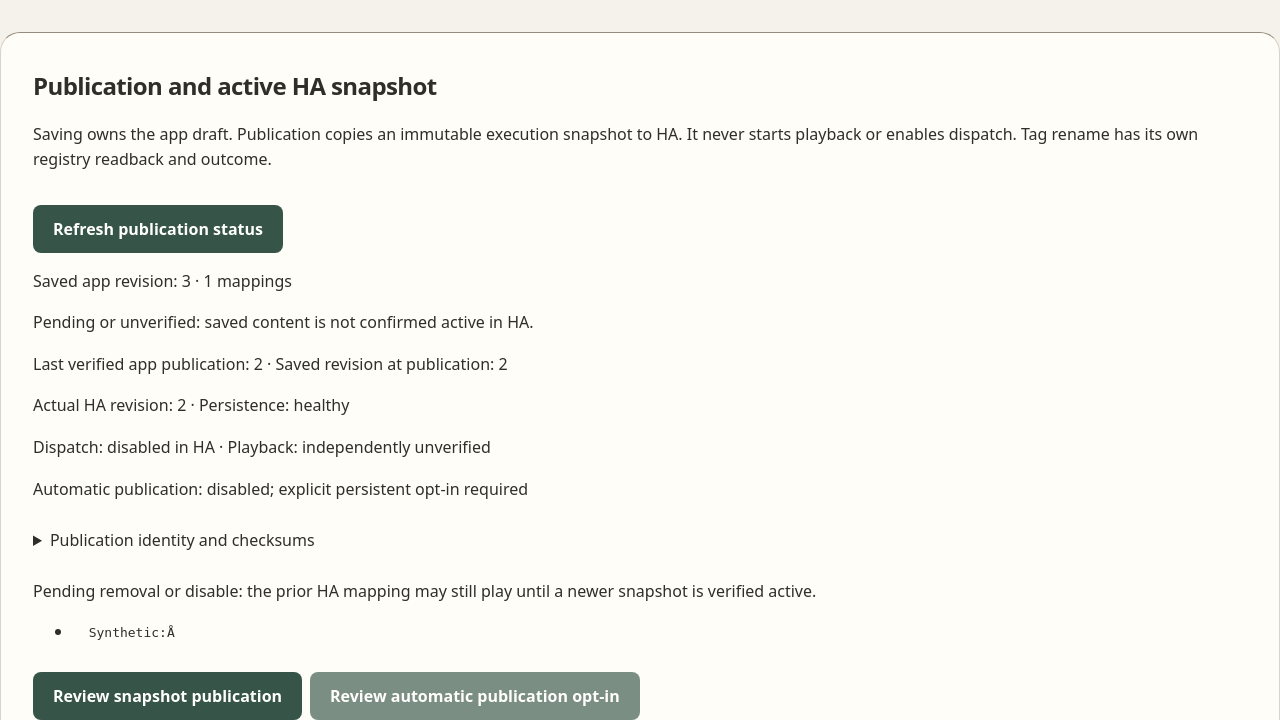
focuses a review preparation error and the exact heading after a new review succeeds
Click the button "Review snapshot publication": (168, 696) [33,672,302,719]
(page scrolled)
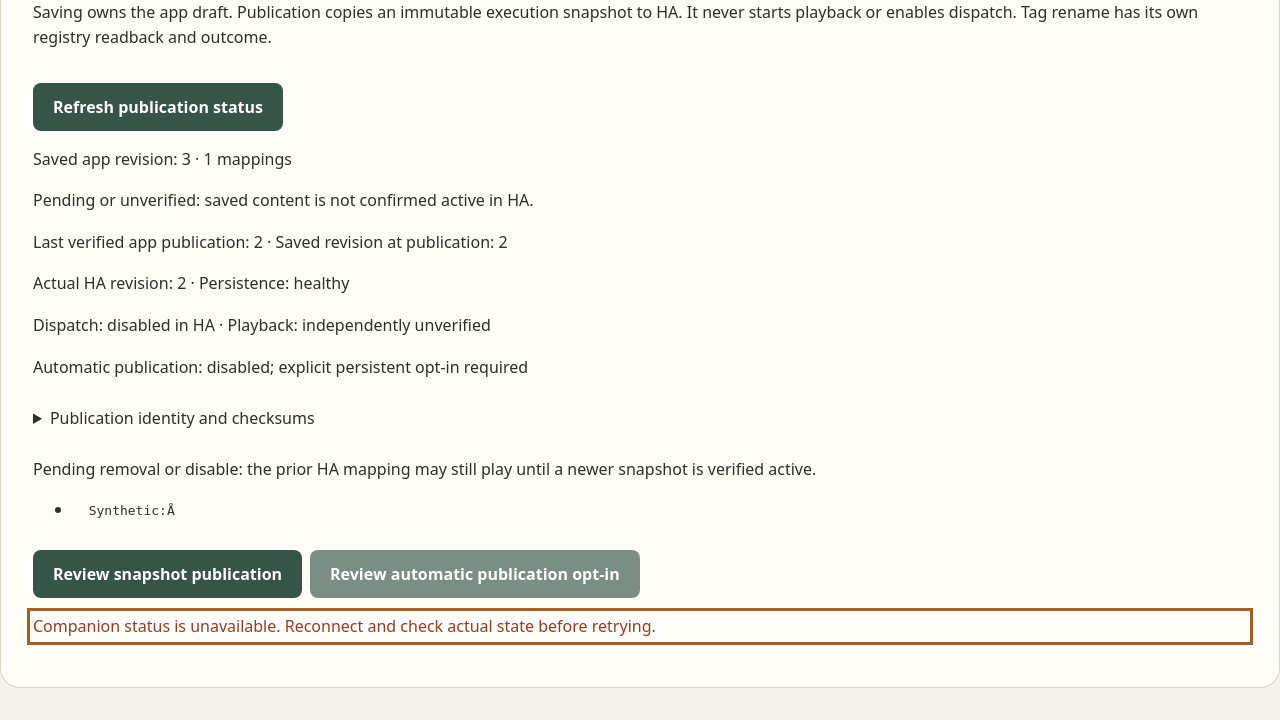
Now the message shows "Companion status is unavailable", box [33,615,656,637]
Click the button "Review snapshot publication": (168, 574) [33,550,302,598]
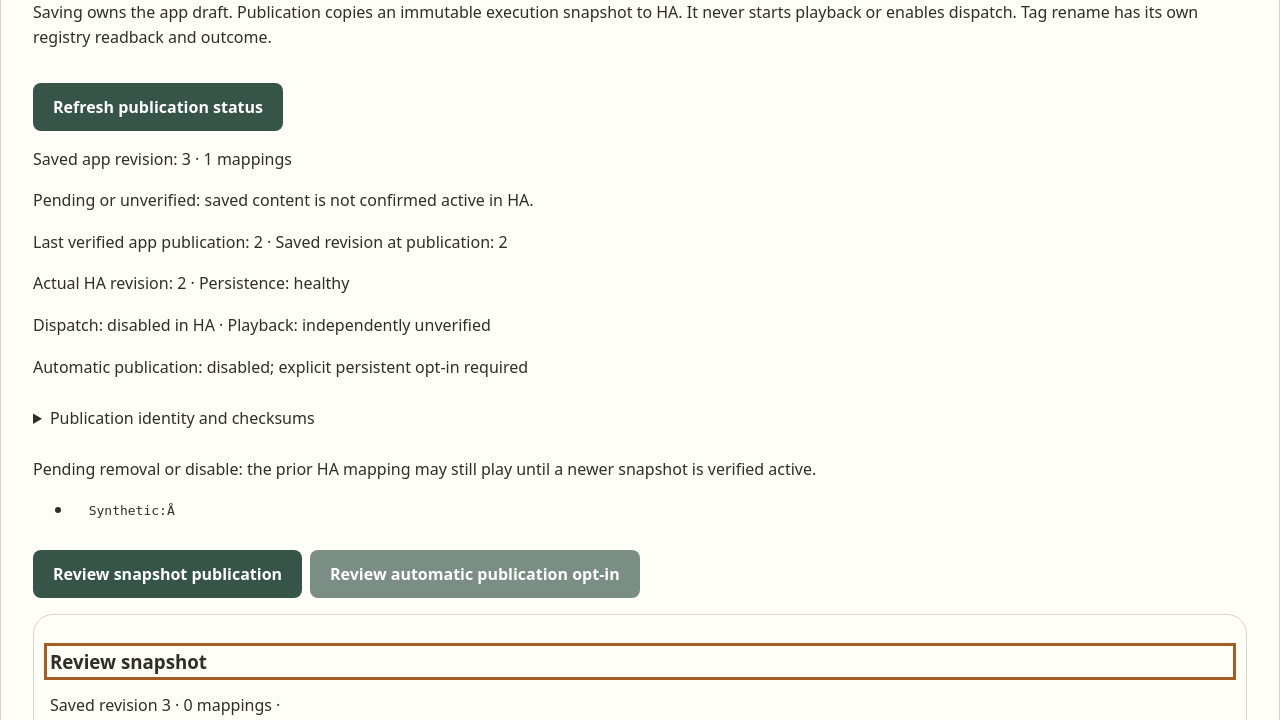
Now the message is gone
